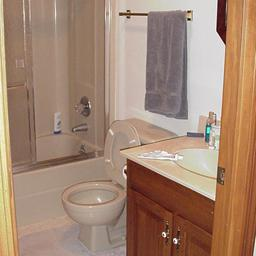Ducha: (6, 4, 105, 171)
Lavamanos: (143, 135, 221, 195)
Sanitario: (61, 126, 173, 247)
